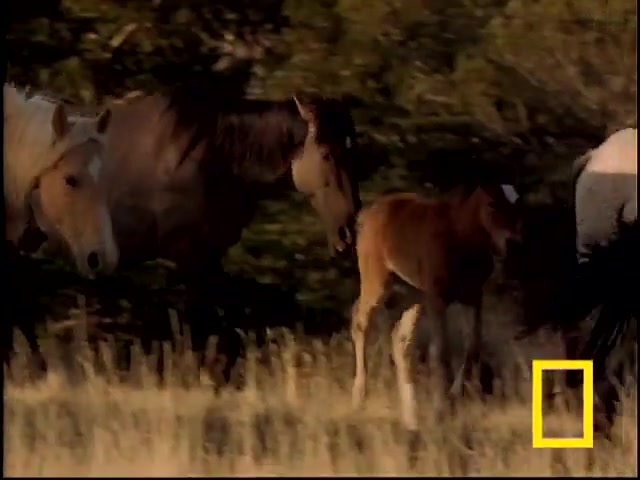horse: (91, 91, 364, 375)
